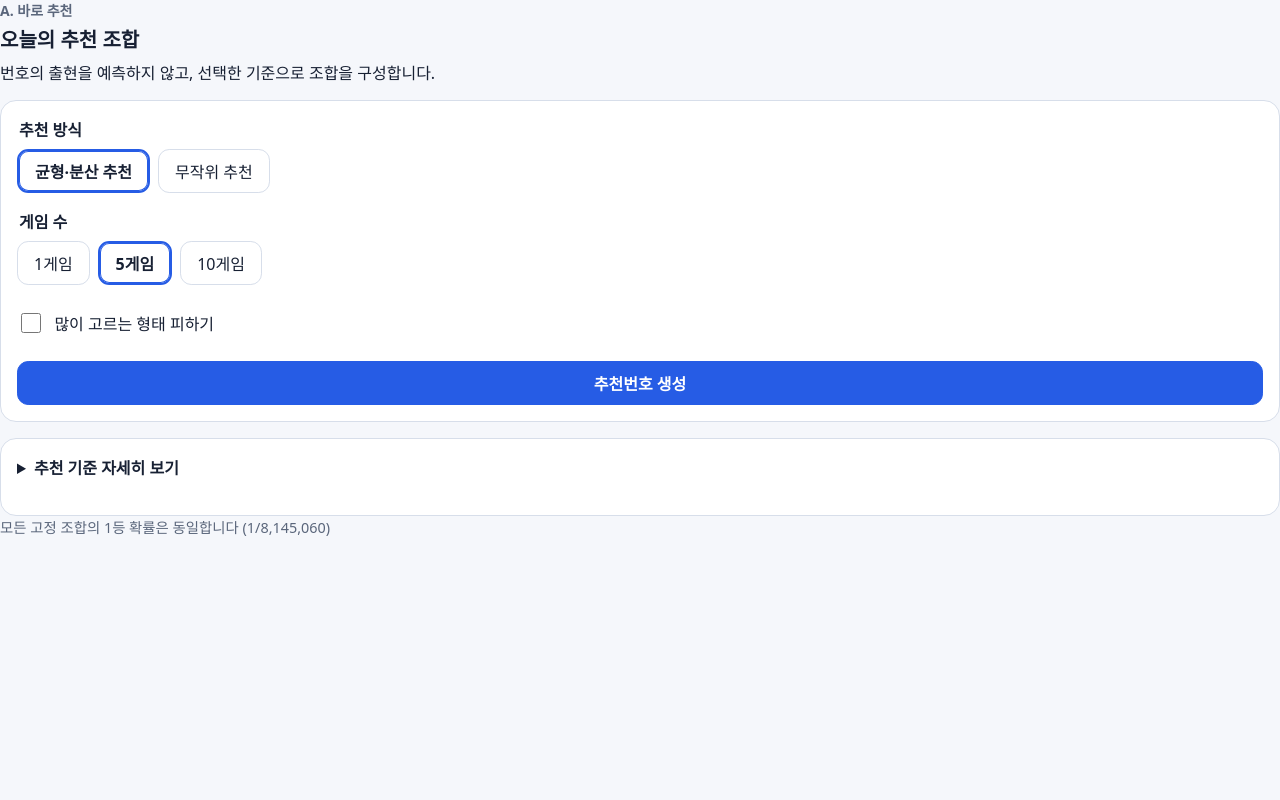
Test: defaults to five balanced games and generates five distinct sorted cards
The image size is (1280, 800).
Click the button "추천번호 생성".
click(640, 383)  # box [17,361,1263,405]
(page scrolled)
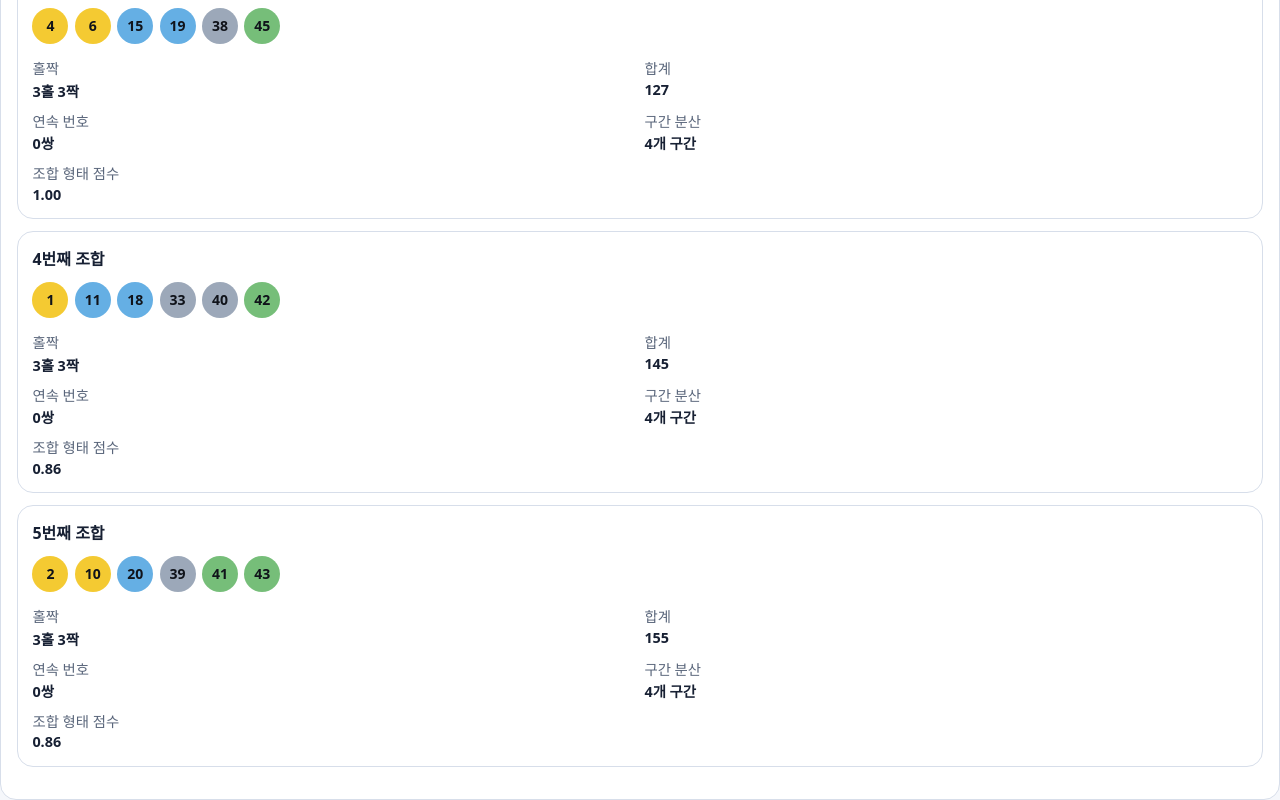
Result: the number of list items "추천 조합" is 5
Result: the list item with aria-label "추천 조합" shows "조합 형태 점수" at [32,164,119,183]
Result: the list item with aria-label "추천 조합" reads "4번째 조합 1 11 18 33 40 42 홀짝 3홀 3짝 합계 145 연속 번호 0쌍 구간 분산 4개 구간 조합 형태 점수 0.86" at [17,231,1263,493]
